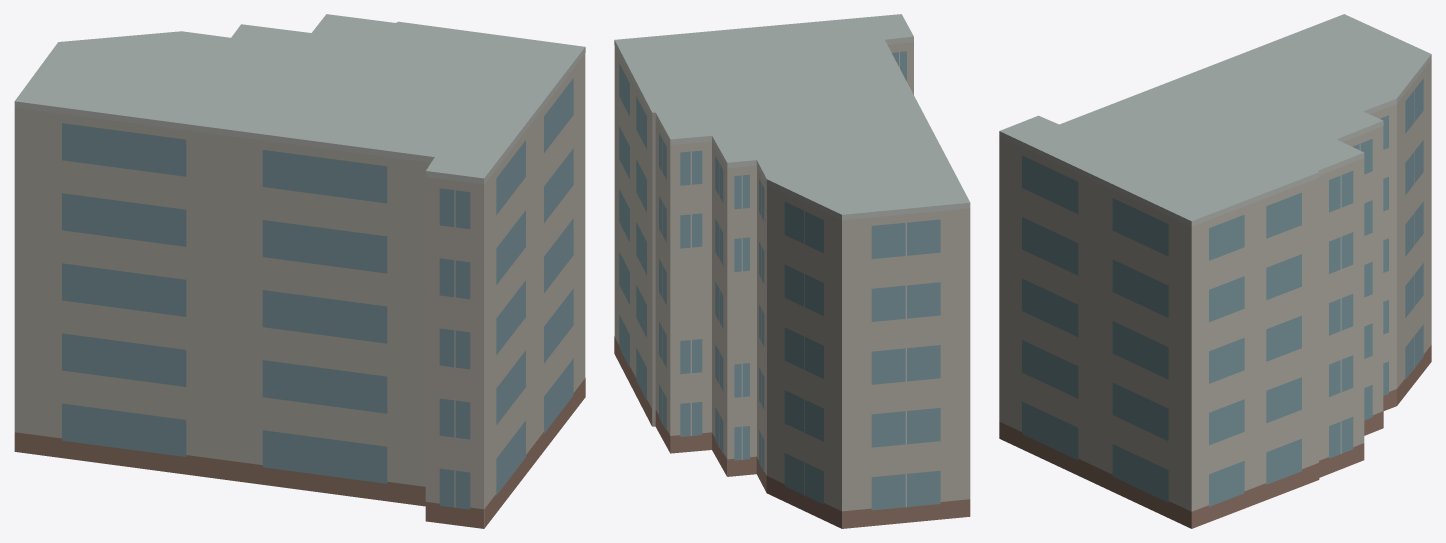
File: survey-upis-32996444.glb
The picture shows the model from 3 angles, left to right: view 1: azimuth 30°, elevation 25°; view 2: azimuth 150°, elevation 25°; view 3: azimuth 270°, elevation 25°; orthographic projection. The views are drawn at different scales.
Parts seen in each view (by area): view 1: survey-upis-32996444.tmp; view 2: survey-upis-32996444.tmp; view 3: survey-upis-32996444.tmp.
Boxes of the visible parts, box(x1,y1,x2,y2) form: survey-upis-32996444.tmp: box(14, 14, 585, 528); survey-upis-32996444.tmp: box(614, 14, 970, 528); survey-upis-32996444.tmp: box(999, 14, 1431, 528).
Size of the model in its own units: 20.03 by 13.85 by 17.65.
